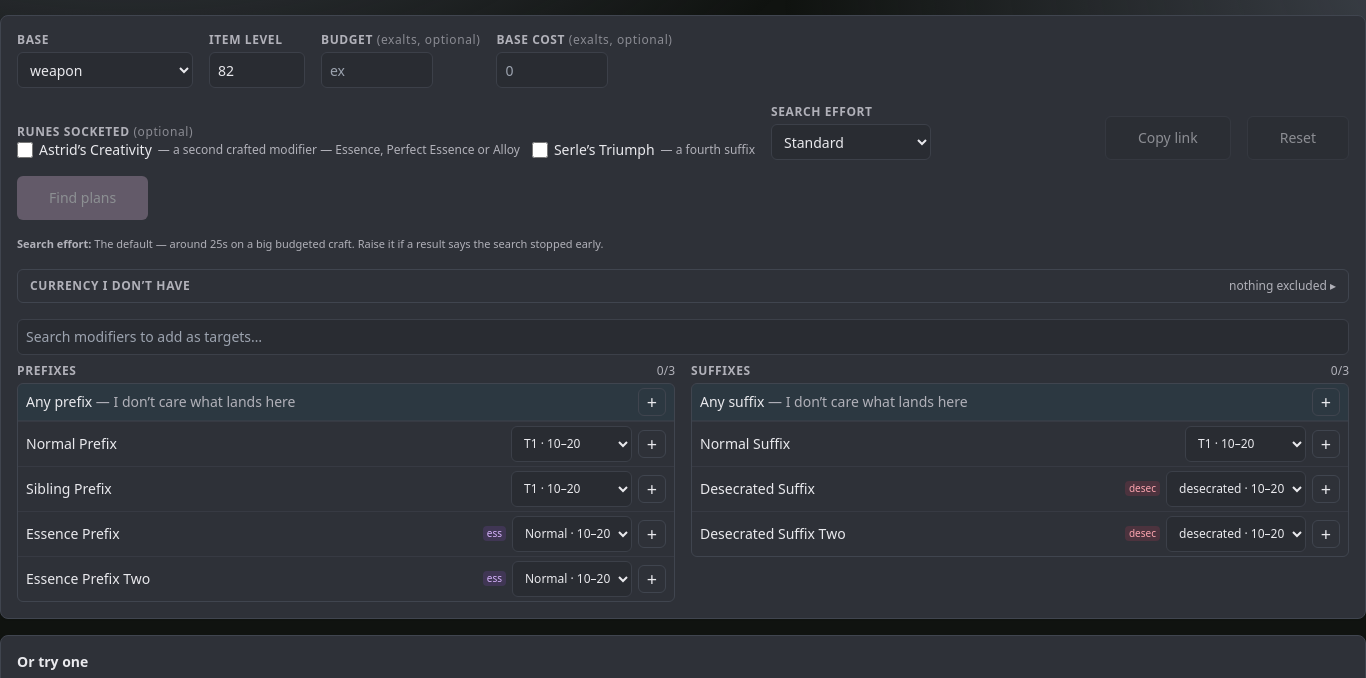
Test case: EngineLab — a slot with alternatives › ungroups a slot when it drops back to a single candidate
Expected: the field with placeholder "Search modifiers to add as targets…" is shown, [17,319,1349,355]
Click the button "+" in the row of "Normal Prefix" at (652, 444), box [638,430,666,458]
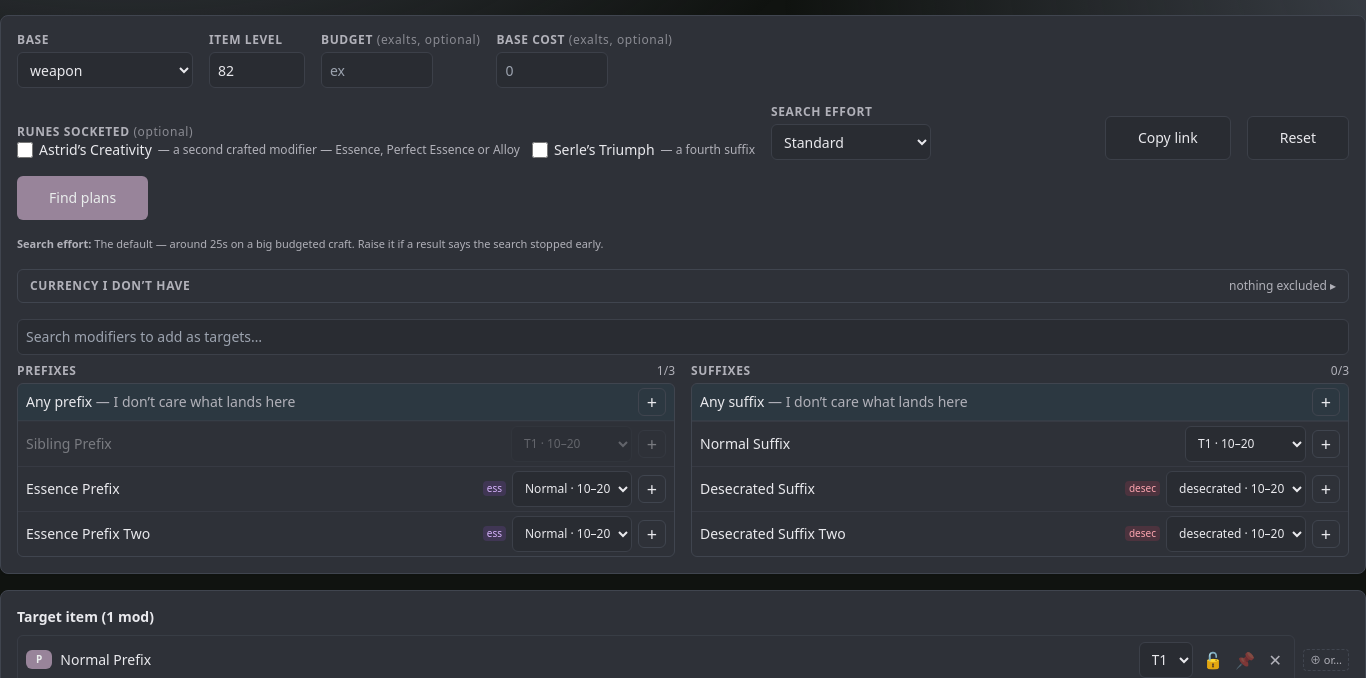
Click the button "⊕ or…" at (1326, 660), box [1303,648,1349,671]
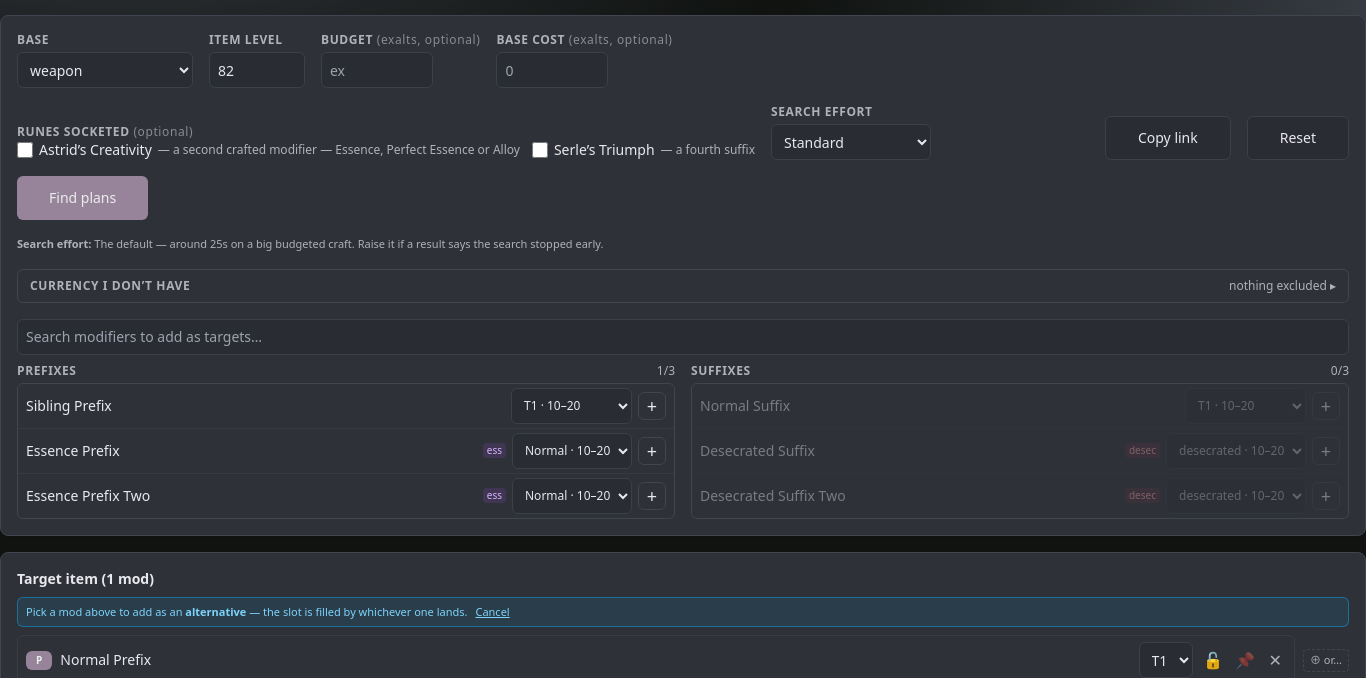
Click the button "+" in the row of "Sibling Prefix" at (652, 406), box [638,392,666,420]
(page scrolled)
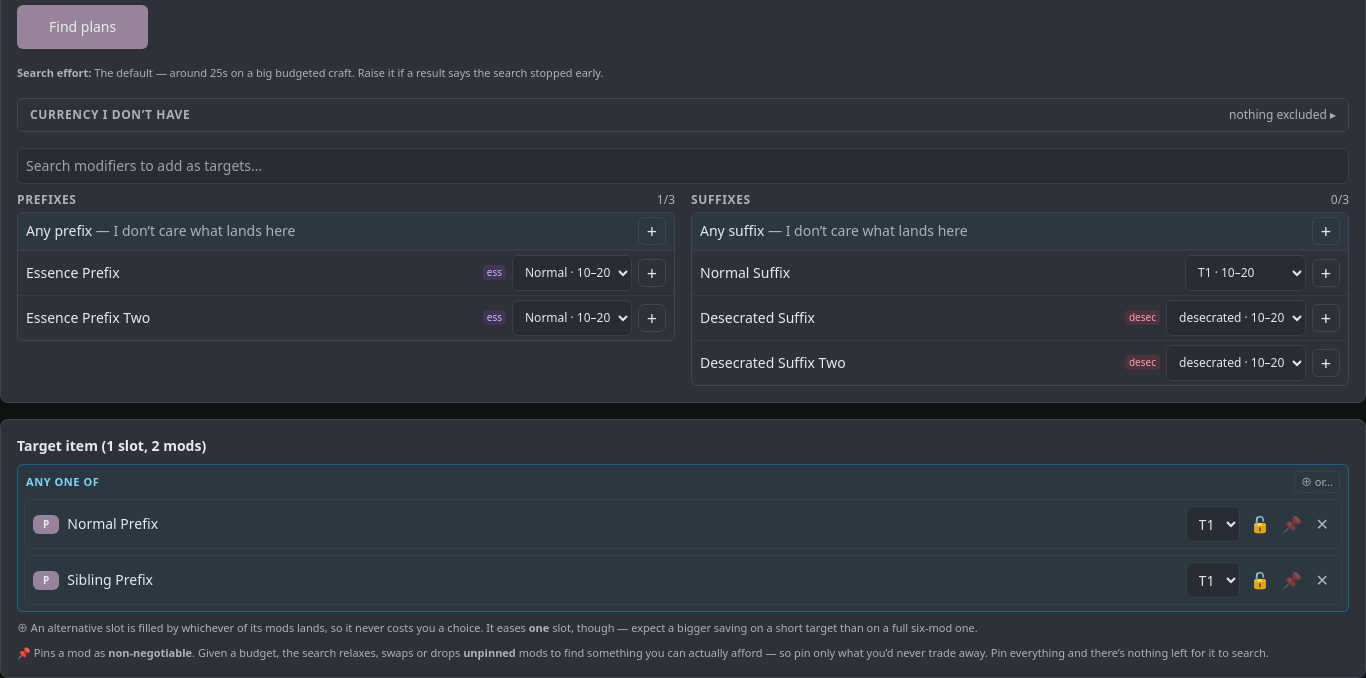
Now the text "Any one of" is shown, box [26,474,99,490]
Click the button named "Remove Sibling Prefix from the target" at (1322, 580), box [1312,568,1333,592]
(page scrolled)
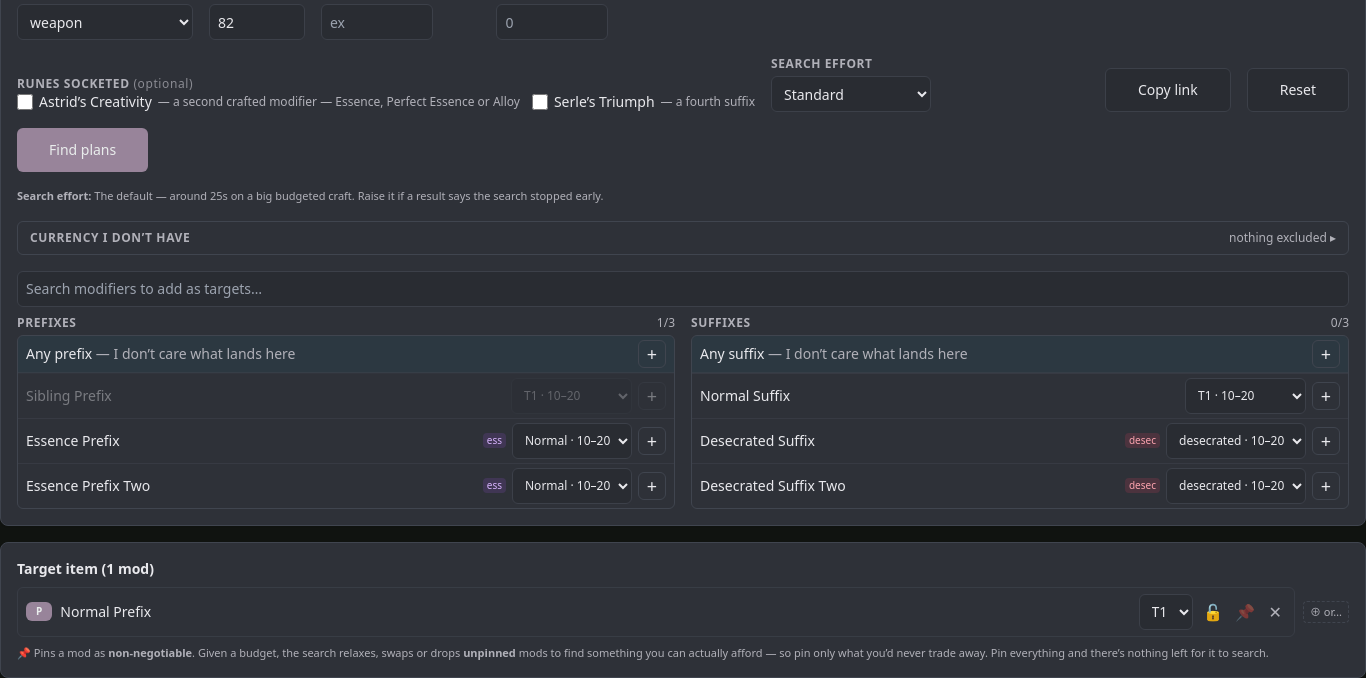
Now the text "Any one of" is gone
Now the heading "Target item (1 mod)" is shown, box [17,559,154,579]
